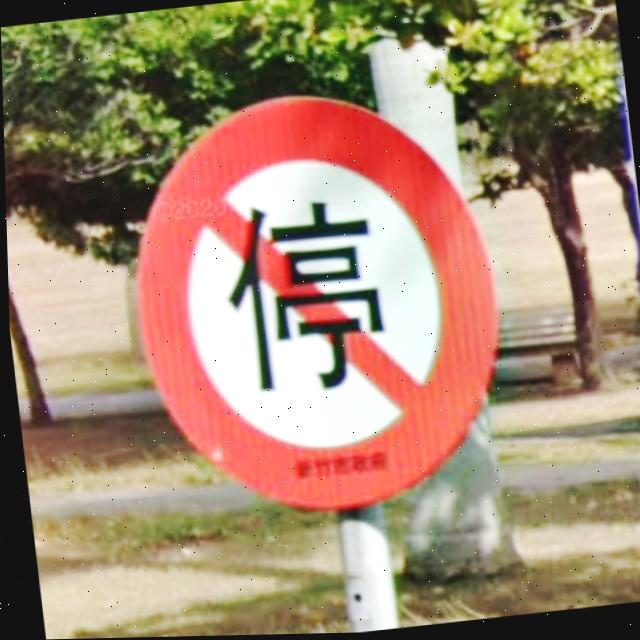nopark: (108, 74, 519, 532)
